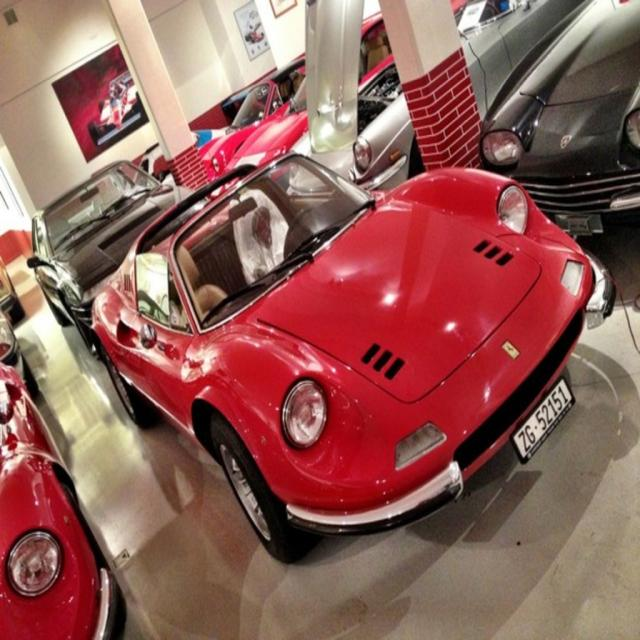car: (75, 114, 566, 552)
